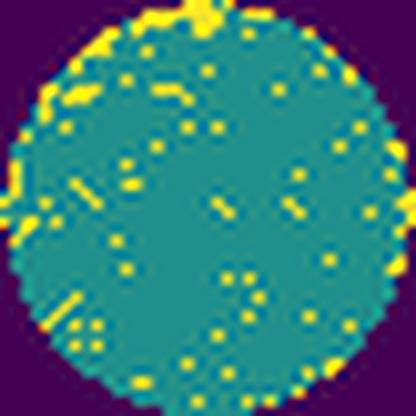Edge-Loc: (130, 0, 225, 43), (68, 28, 121, 74)
